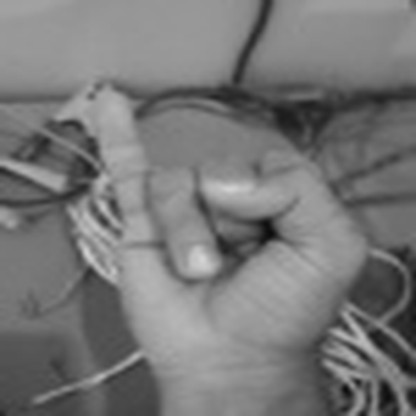i: (83, 83, 382, 377)
